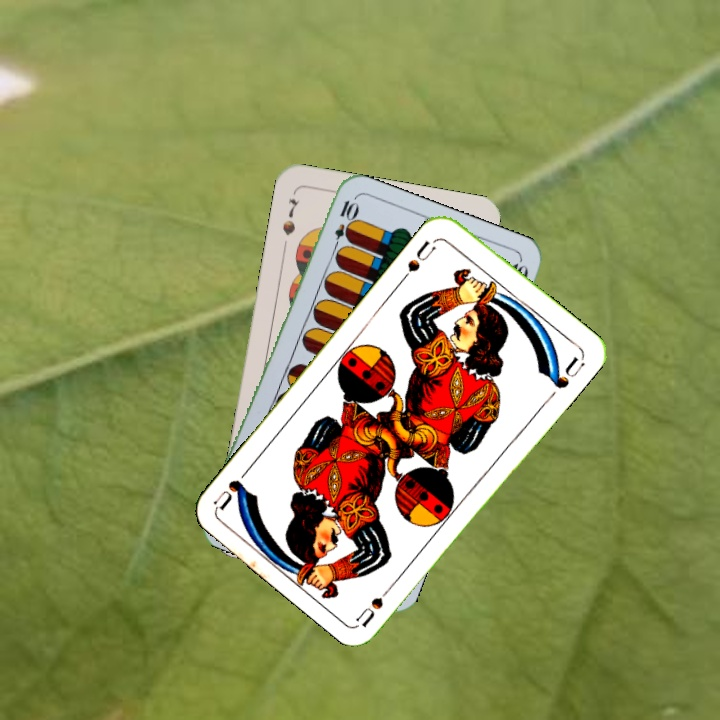E10: (328, 196, 359, 255)
S7: (278, 194, 302, 238)
SU: (353, 577, 399, 629), (397, 234, 441, 284)
